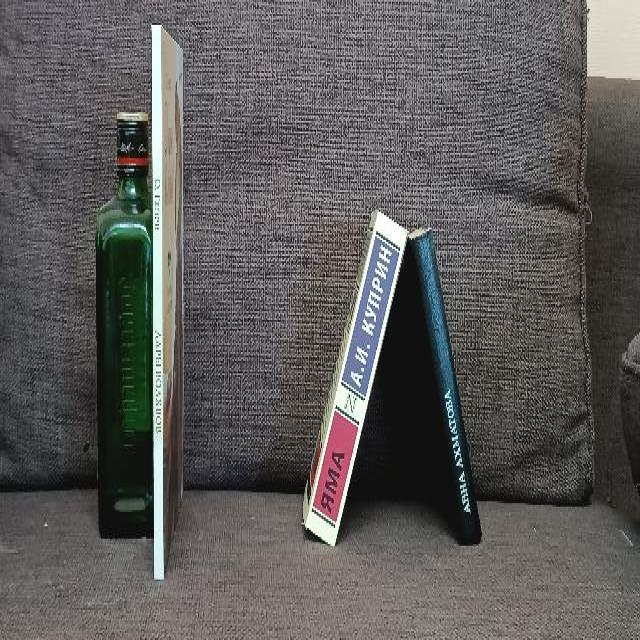book: (306, 212, 408, 546), (415, 230, 484, 546), (152, 25, 164, 580)
